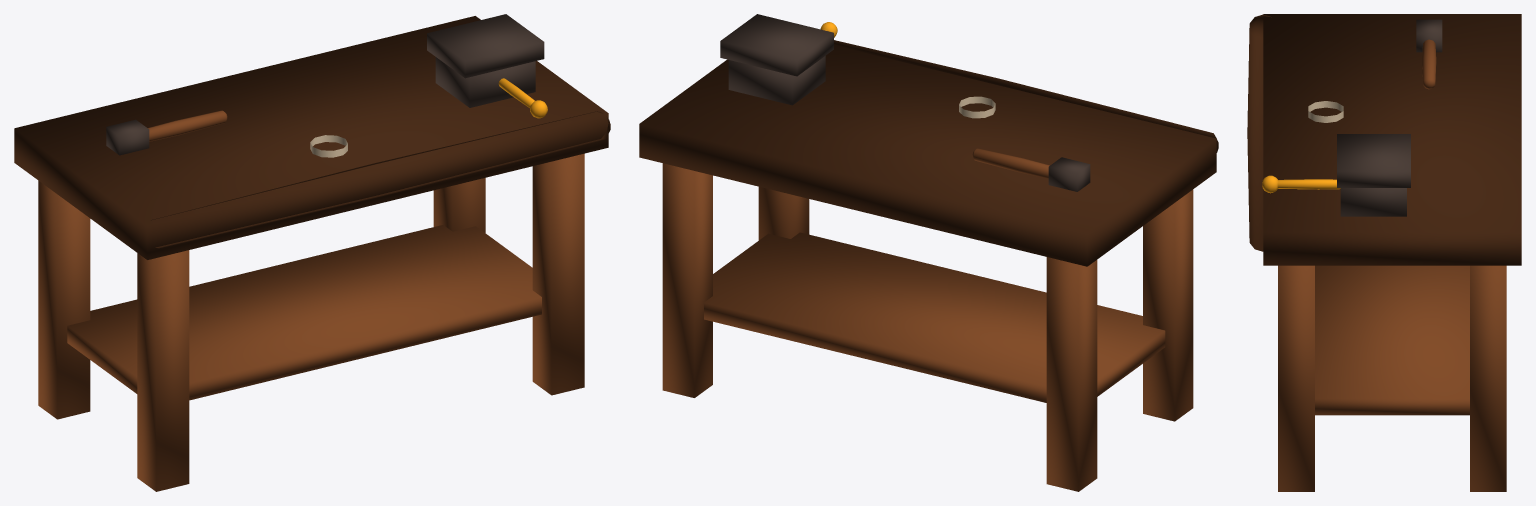
The model's file is werkbank.glb.
3 views of the same model, side by side, from view 1: azimuth 30°, elevation 25°; view 2: azimuth 150°, elevation 25°; view 3: azimuth 270°, elevation 25° (orthographic). The views are drawn at different scales.
Parts seen in each view (by area): view 1: Werkbank; view 2: Werkbank; view 3: Werkbank.
Boxes of the visible parts, x1,y1,x2,y2 form: Werkbank: (14,14,610,491); Werkbank: (639,14,1218,491); Werkbank: (1247,14,1521,491).
Size of the model in its own units: 1.4 by 0.945 by 0.7428.
1 material, 1 textured.
